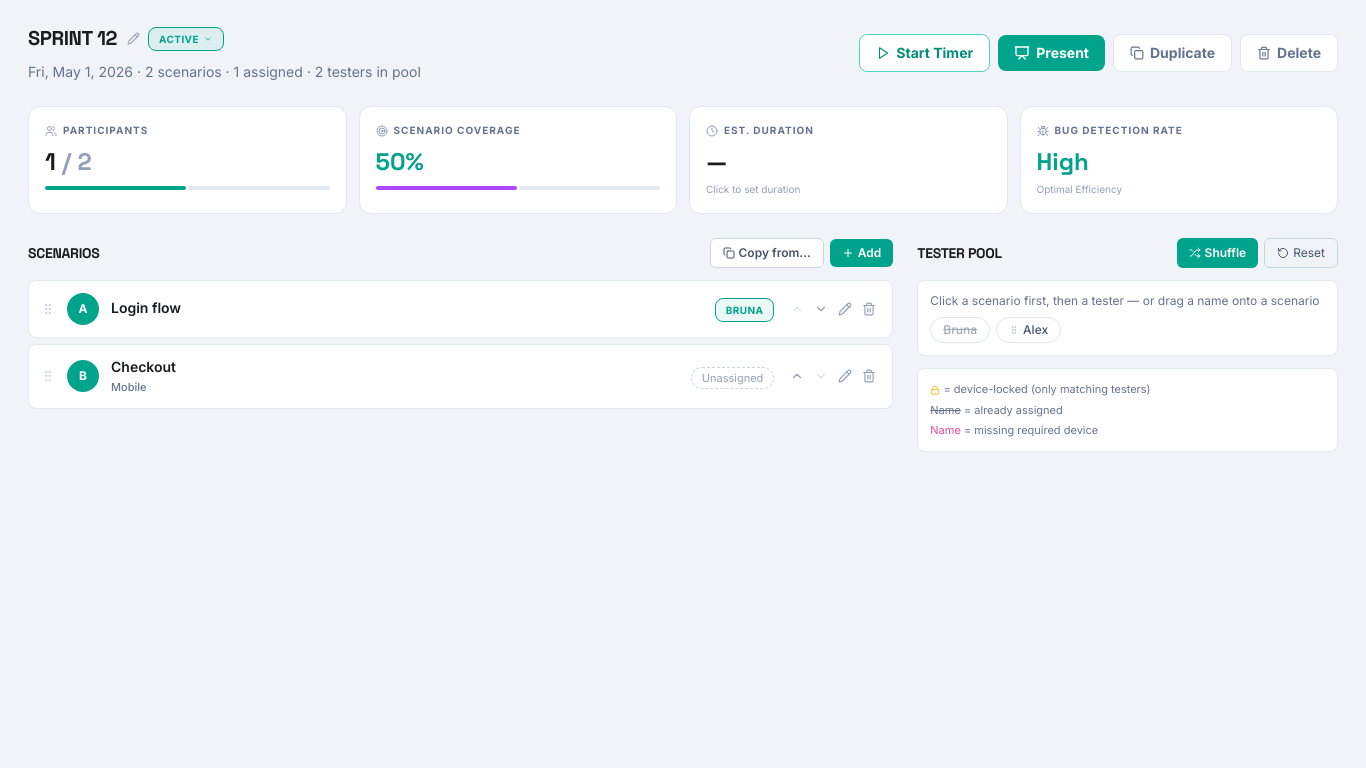
Test: SessionSetupPage › delete button opens confirm modal requiring session name
The image size is (1366, 768).
Expected: the heading "Sprint 12" is shown, [28, 24, 117, 52]
Click the button "Delete".
click(1289, 53)  # box [1240, 34, 1338, 72]
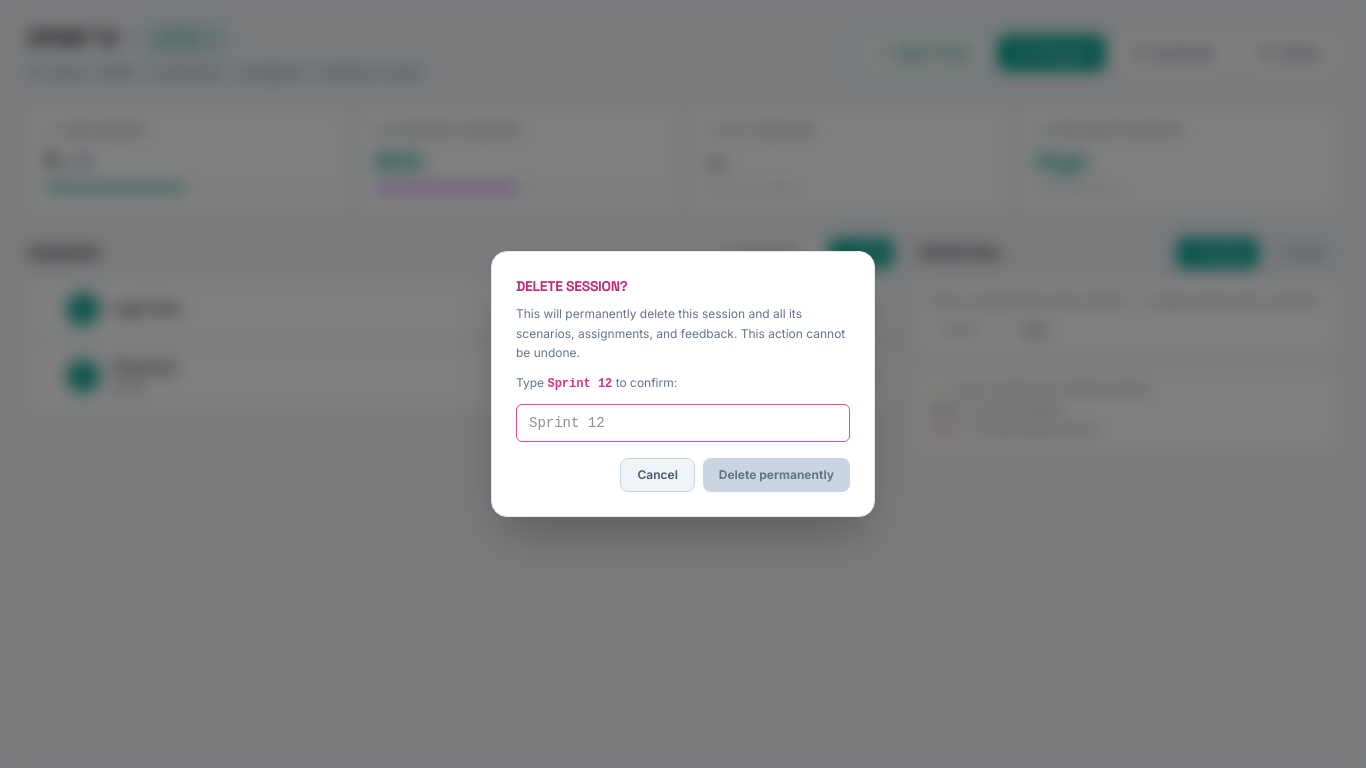
Expected: the heading "Delete session?" is shown, [516, 277, 628, 295]
Expected: the button "Delete permanently" is disabled, [703, 458, 850, 492]
